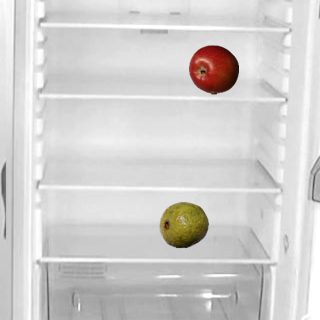Apple Braeburn: (188, 44, 238, 94)
Guava: (158, 199, 208, 249)
